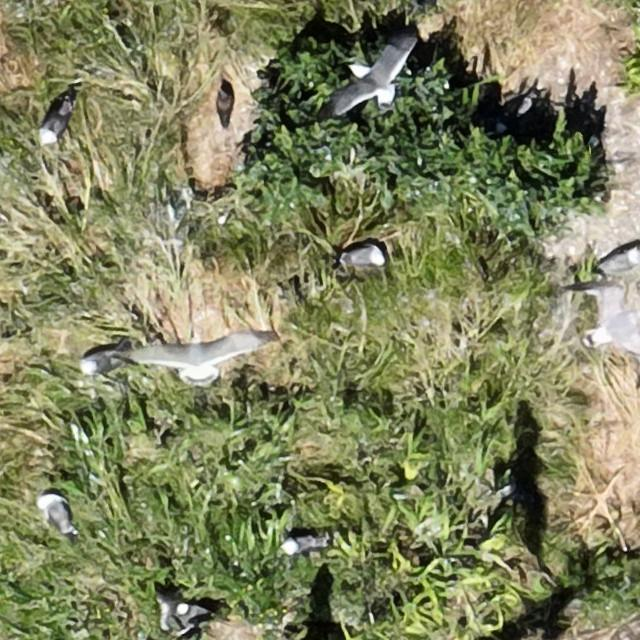F: (122, 326, 279, 382), (343, 42, 410, 110)
umineko: (587, 311, 637, 347), (178, 601, 215, 630), (43, 497, 71, 532), (42, 107, 68, 142), (344, 248, 384, 267), (601, 252, 639, 272), (82, 350, 116, 372), (285, 536, 318, 554)
